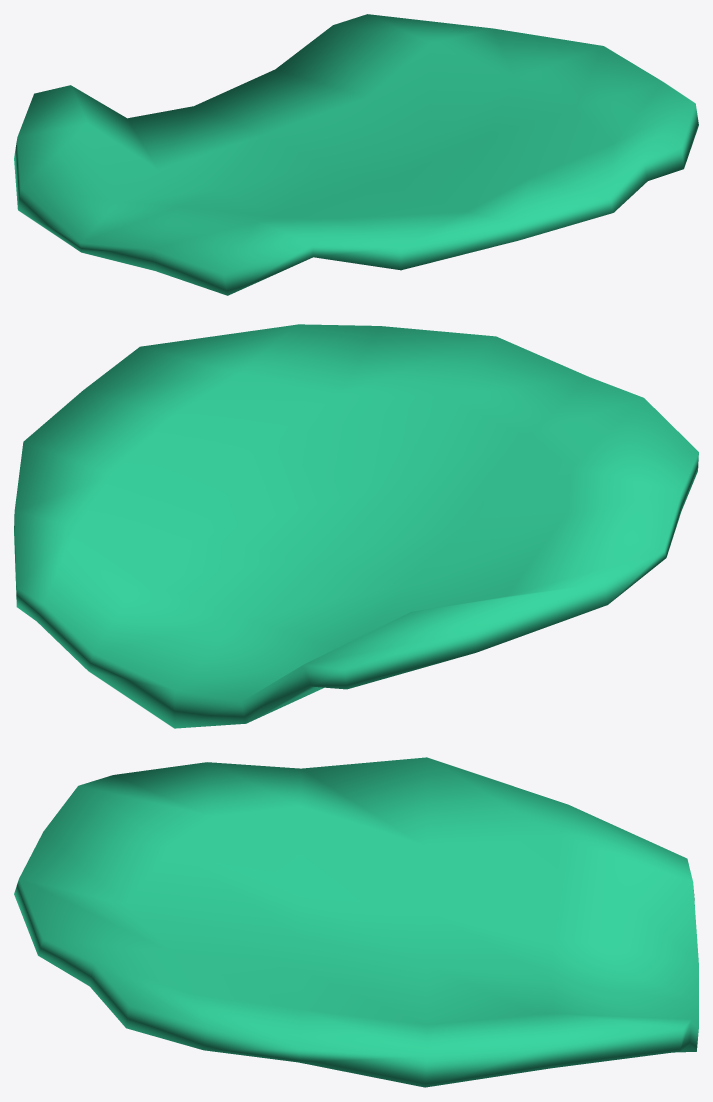
The model's file is Koraal_Plane4.fbx.
The picture shows the model from 3 angles, top to bottom: view 1: azimuth 30°, elevation 25°; view 2: azimuth 150°, elevation 25°; view 3: azimuth 270°, elevation 25°; orthographic projection. The views are drawn at different scales.
Visible parts, largest first — view 1: CubePane1; view 2: CubePane1; view 3: CubePane1.
Boxes of the visible parts, x1=… form: CubePane1: x1=14, y1=14, x2=698, y2=295; CubePane1: x1=14, y1=324, x2=698, y2=728; CubePane1: x1=14, y1=757, x2=698, y2=1087.
Bounding box in the file's own units: 284 × 74.16 × 272.
